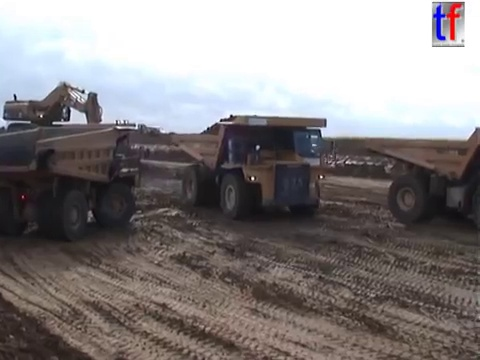excavator: (1, 79, 106, 149)
truck: (168, 112, 340, 221), (1, 119, 150, 244), (365, 124, 480, 227)
